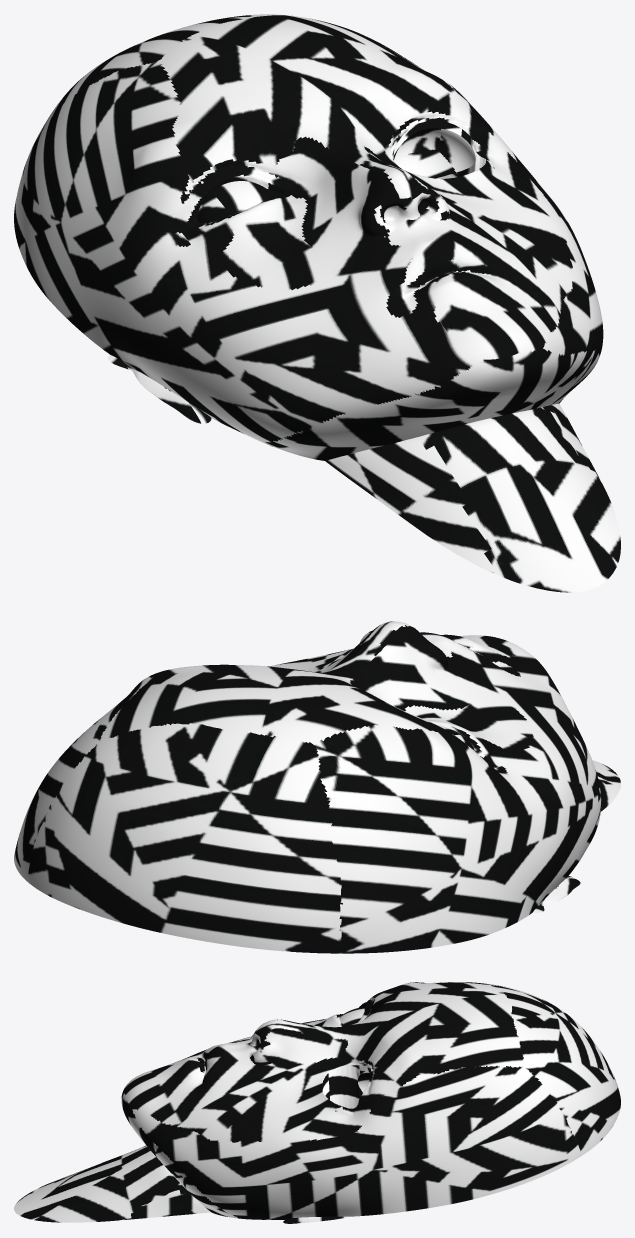
The model's file is world.glb.
The picture shows the model from 3 angles, top to bottom: view 1: azimuth 30°, elevation 25°; view 2: azimuth 150°, elevation 25°; view 3: azimuth 270°, elevation 25°; orthographic projection. The views are drawn at different scales.
Parts seen in each view (by area): view 1: FACE TEMP; view 2: FACE TEMP; view 3: FACE TEMP.
Boxes of the visible parts, bbox=[...] form: FACE TEMP: bbox=[14, 14, 620, 592]; FACE TEMP: bbox=[14, 621, 620, 953]; FACE TEMP: bbox=[14, 982, 620, 1223].
Size of the model in its own units: 18.57 by 12.24 by 32.59.
Materials: 1 (1 with a texture image).
